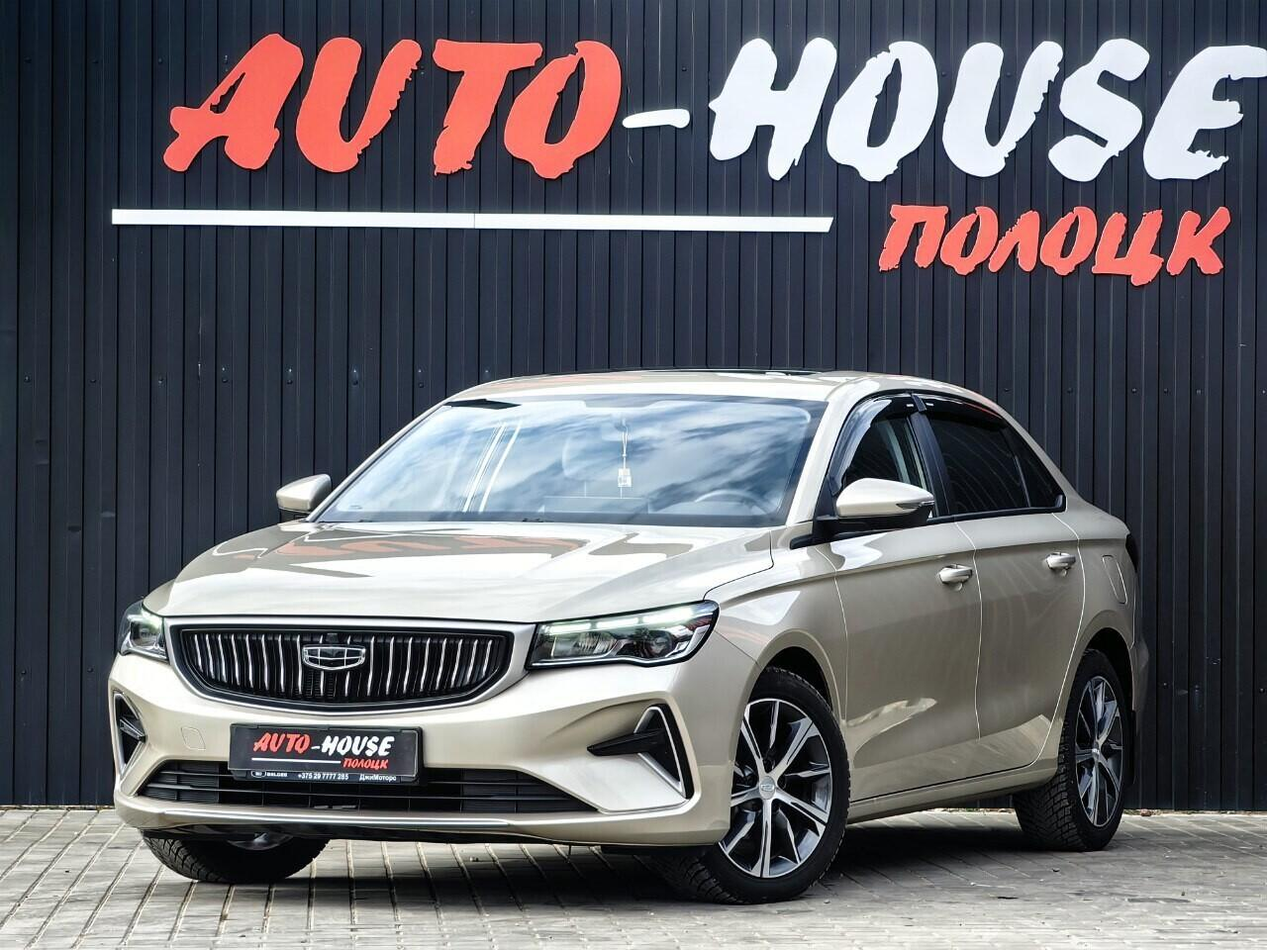Emgrand_2021: (94, 360, 1153, 913)
